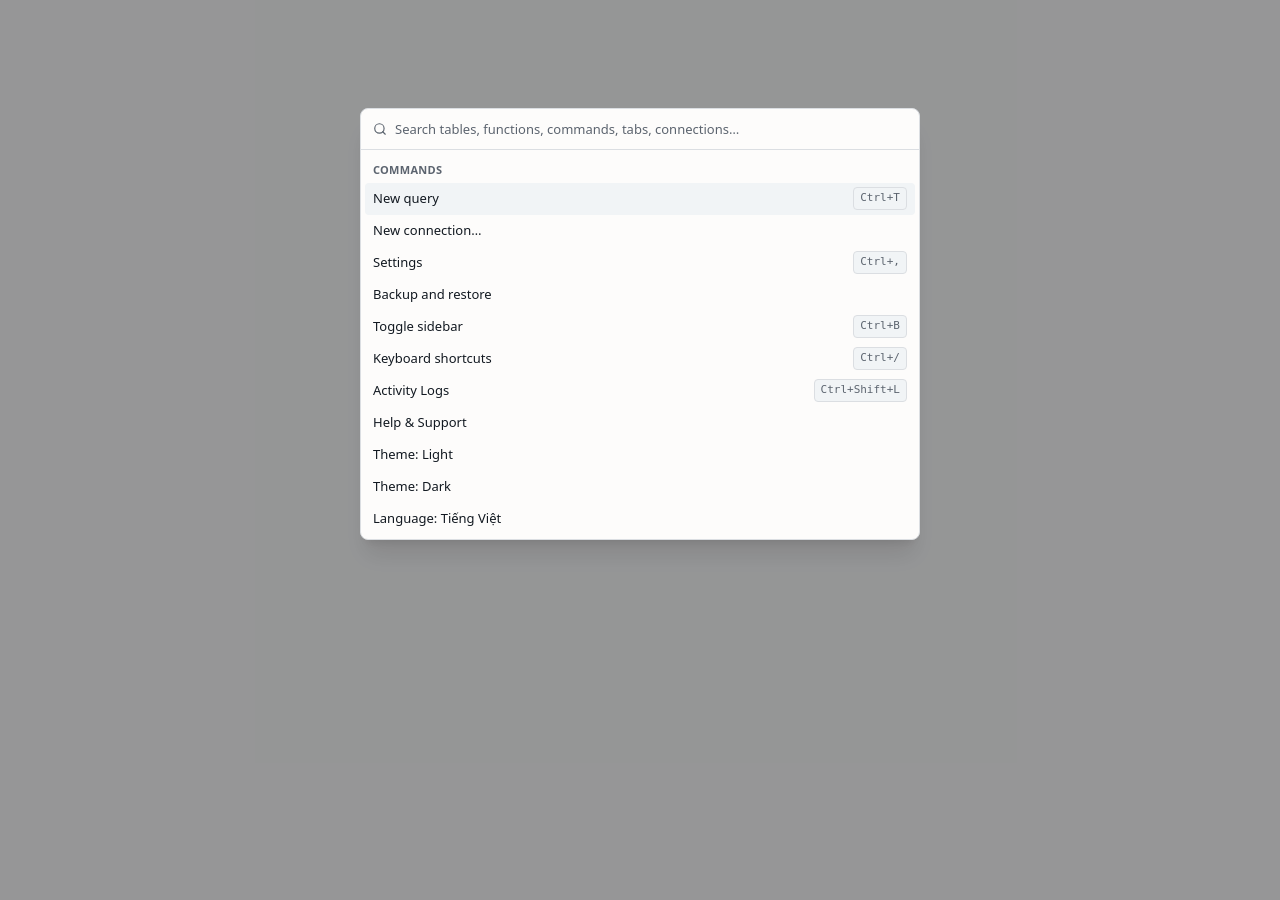
it: CommandPalette › moves with the arrow keys and wraps around
The width and height of the screenshot is (1280, 900).
Later steps or results of the test are not shown.
In the dropdown named "Command palette": (651,129) [395, 109, 907, 149], type "theme"
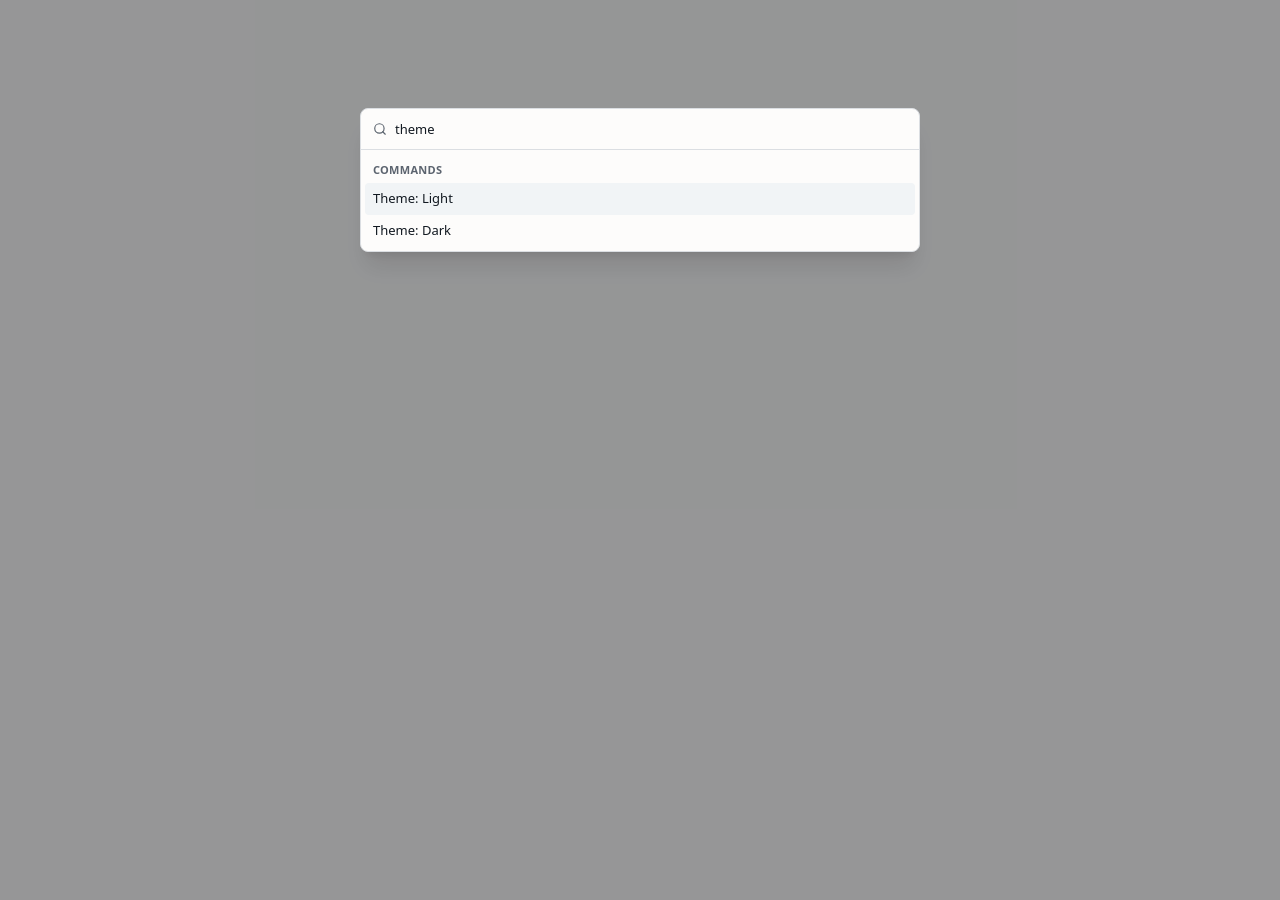
Expected: the options read "Theme: Light", "Theme: Dark", in this order, [365, 182, 915, 214]; [373, 221, 451, 239]
